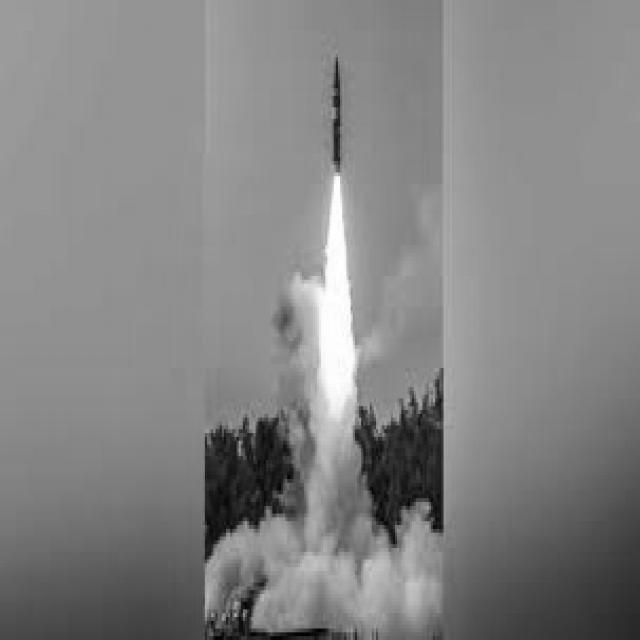missile: (331, 47, 344, 186)
